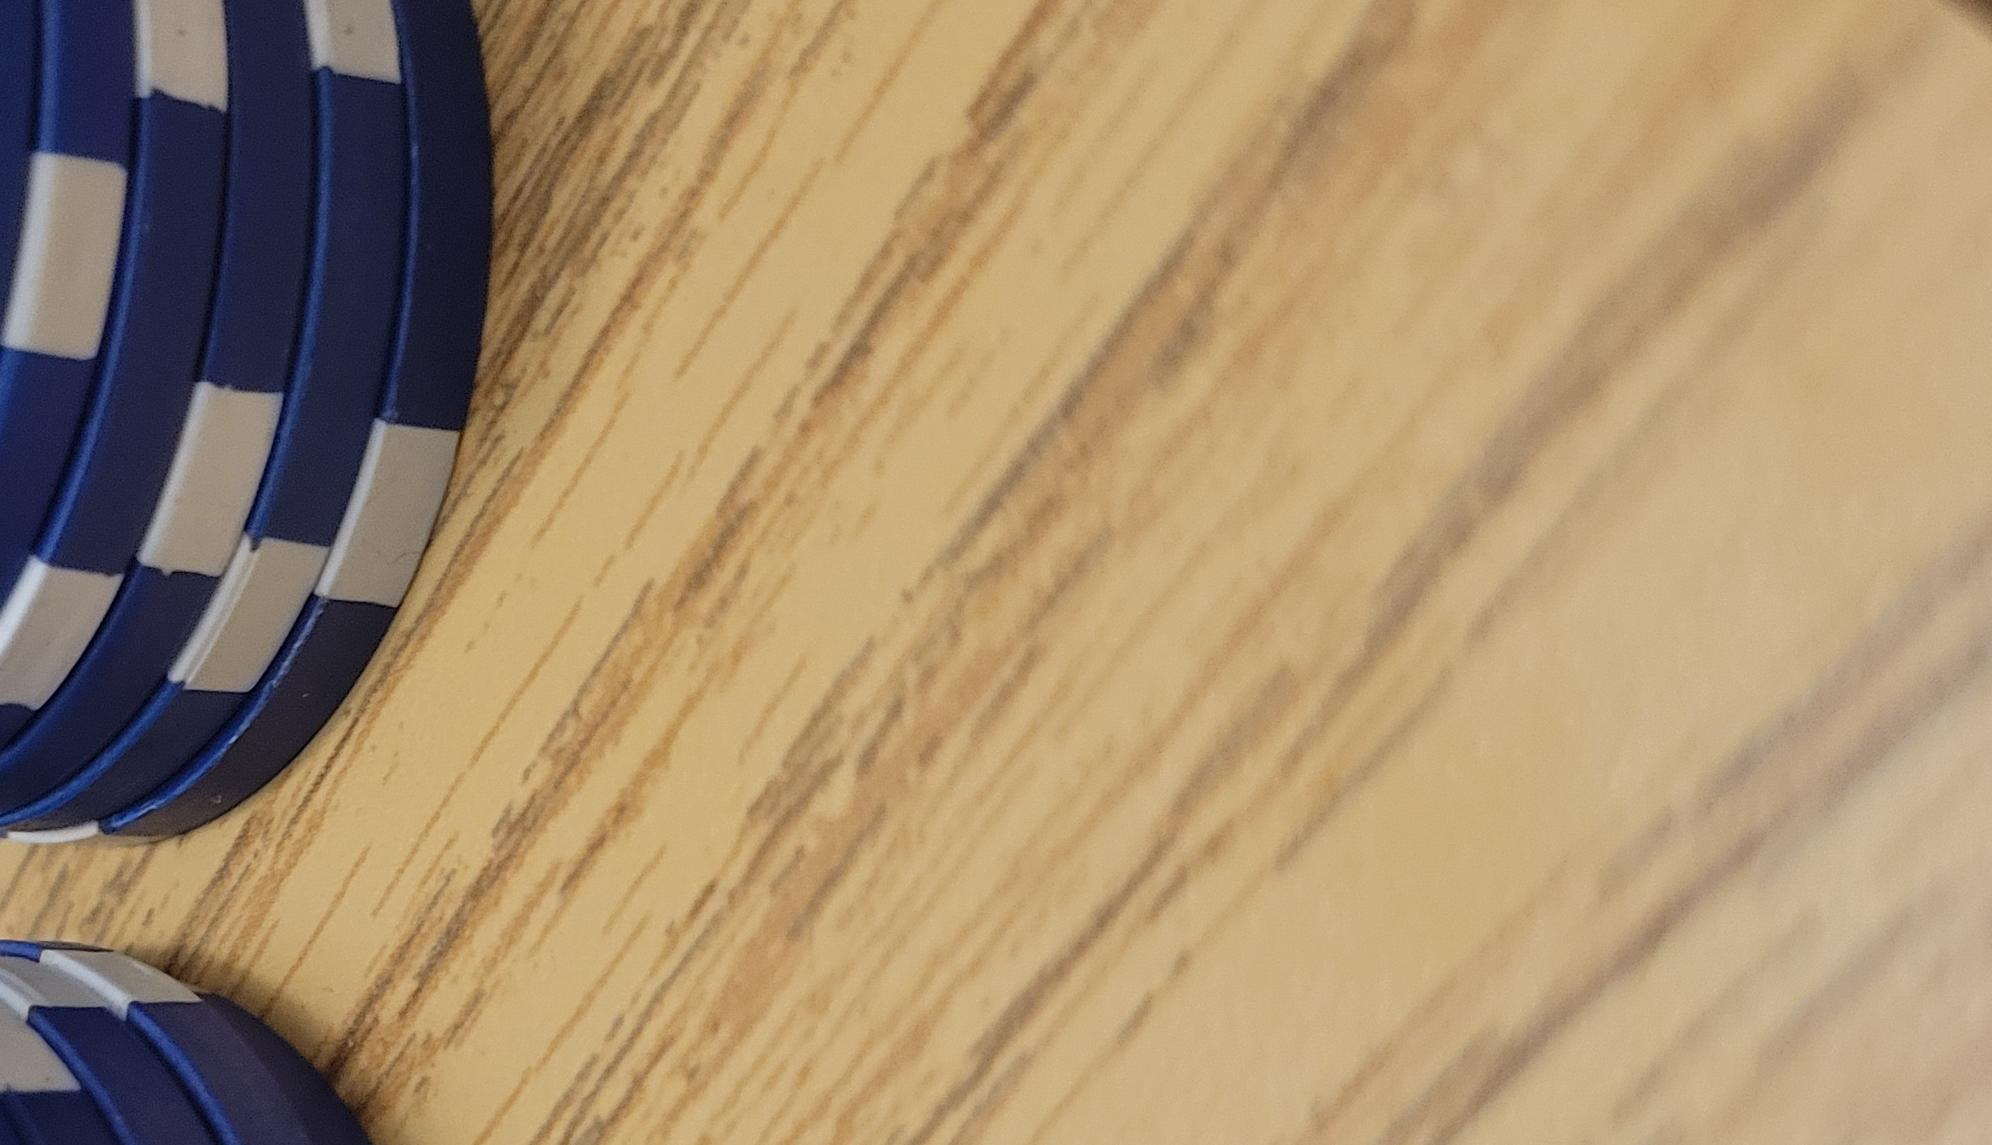Chip: (1, 222, 1015, 1145)
